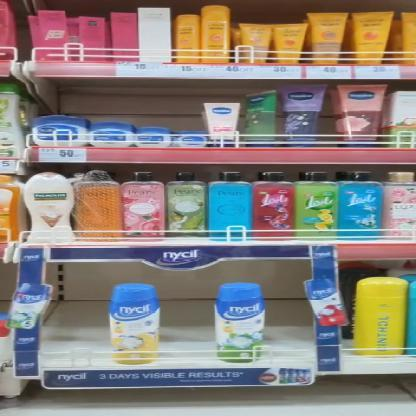Nycil Prickly Heat Powder: (216, 280, 268, 362), (113, 284, 164, 363)
